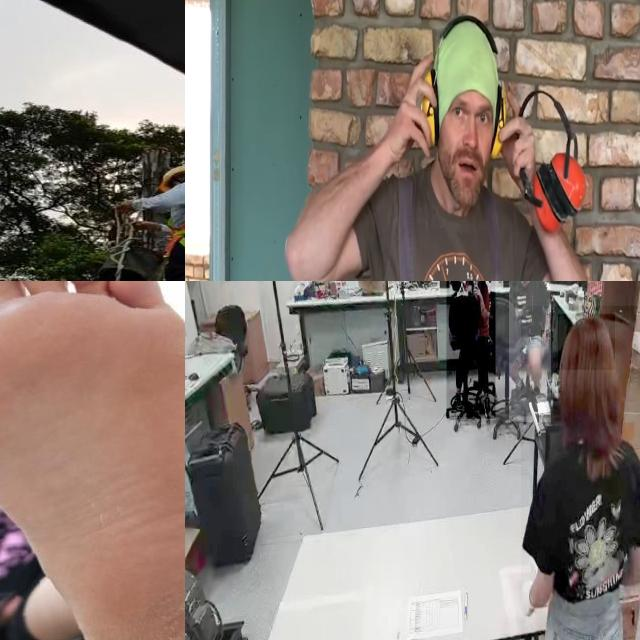Barefoots: (0, 281, 185, 640)
Ear-protection: (422, 25, 508, 202)
Harness: (169, 181, 185, 273)
No_Glasses: (444, 86, 493, 140)
hand_noglove: (472, 282, 482, 297), (541, 330, 547, 348)
head_nohelmet: (558, 314, 616, 371)
person: (521, 306, 640, 640), (446, 281, 495, 419), (509, 281, 551, 422)
